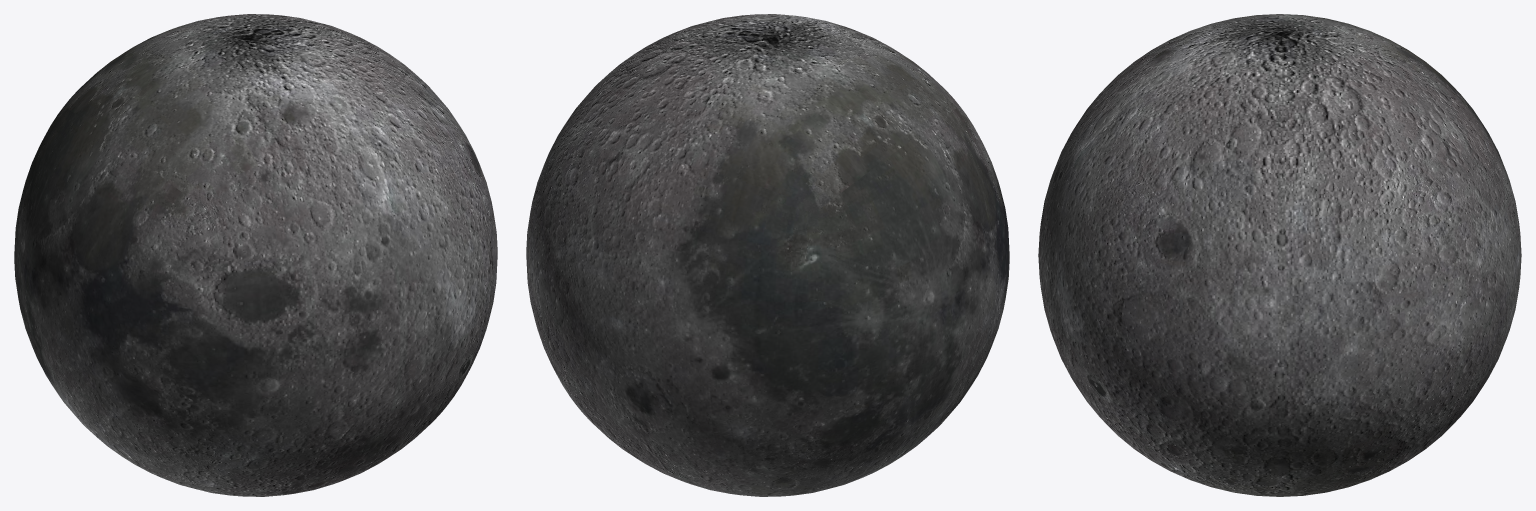
The model's file is moon-nasa.glb.
3 views of the same model, side by side, from view 1: azimuth 30°, elevation 25°; view 2: azimuth 150°, elevation 25°; view 3: azimuth 270°, elevation 25° (orthographic).
Parts seen in each view (by area): view 1: Cube.008; view 2: Cube.008; view 3: Cube.008.
Boxes of the visible parts, x1,y1,x2,y2 form: Cube.008: [14, 14, 497, 496]; Cube.008: [526, 14, 1009, 496]; Cube.008: [1038, 14, 1521, 496].
Size of the model in its own units: 1000 by 999 by 1000.
Materials: 1 (1 with a texture image).
